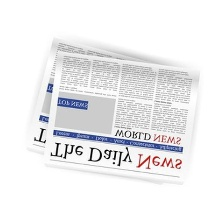news_paper: (14, 34, 184, 166), (40, 52, 201, 188)
